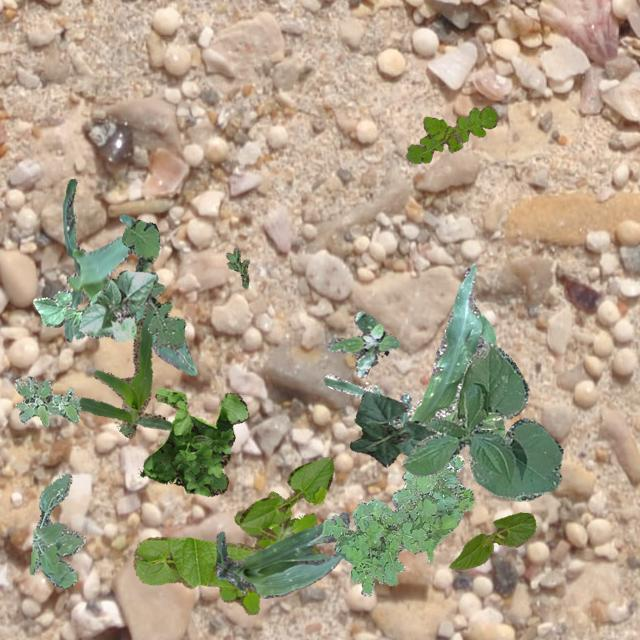crop: (324, 263, 504, 437), (62, 178, 196, 374), (400, 342, 562, 499), (78, 304, 170, 436), (214, 510, 348, 598), (238, 456, 334, 526), (132, 536, 258, 588), (348, 390, 434, 466), (77, 270, 156, 342), (448, 512, 534, 568), (32, 288, 96, 338)
weed: (321, 454, 474, 596), (218, 490, 320, 614), (140, 386, 248, 496), (102, 218, 186, 348), (30, 472, 84, 588), (404, 104, 496, 162), (327, 309, 398, 376), (14, 376, 82, 426), (224, 246, 248, 286)
